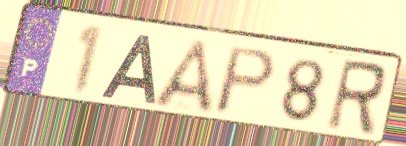1: (71, 23, 106, 98)
8: (279, 57, 331, 124)
A: (149, 37, 218, 117), (98, 32, 158, 107)
P: (210, 44, 281, 117)
R: (322, 57, 390, 140)
